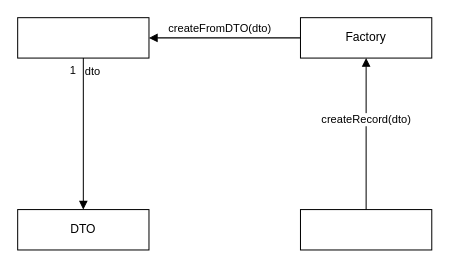
Image size: 449x268. Some labels were removed from this diagram. Here are the shapes that lost their labels. From the top down, the box of each, then its label:
(17, 17, 149, 58): Record
(299, 209, 432, 250): Connector
